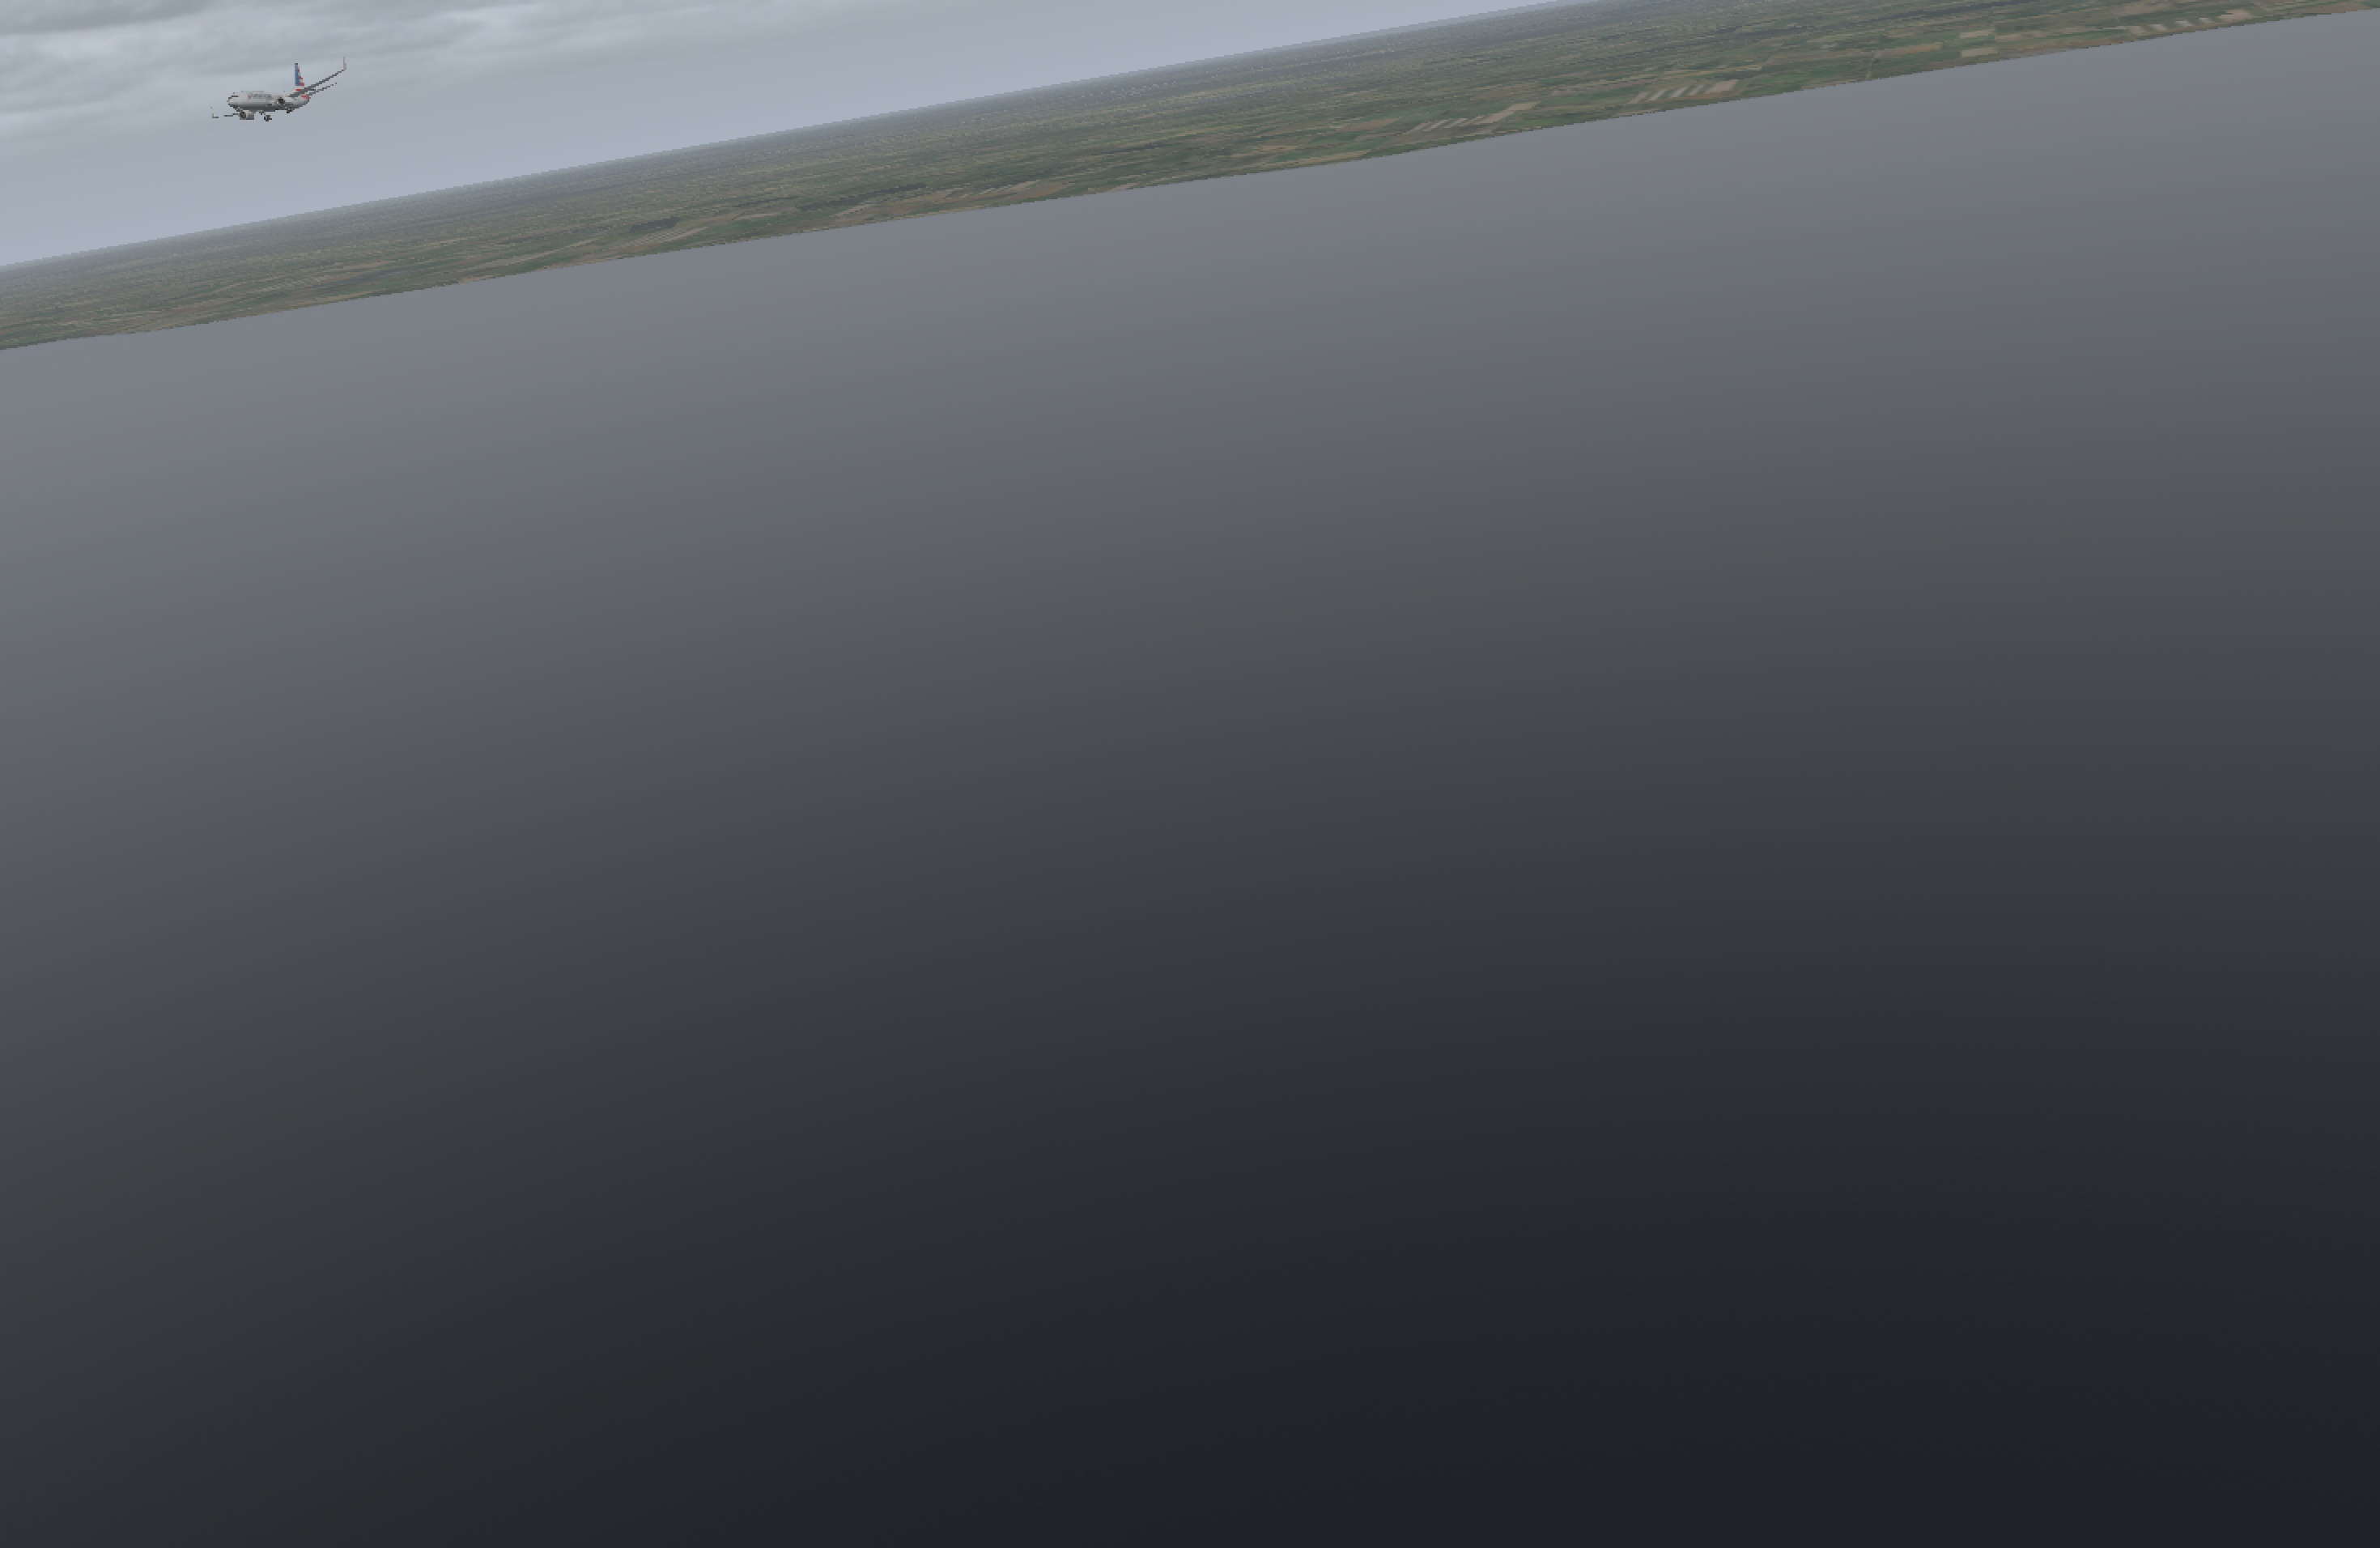aircraft: (194, 75, 347, 132)
